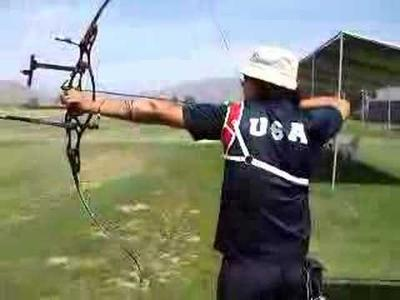person: (64, 44, 352, 299)
